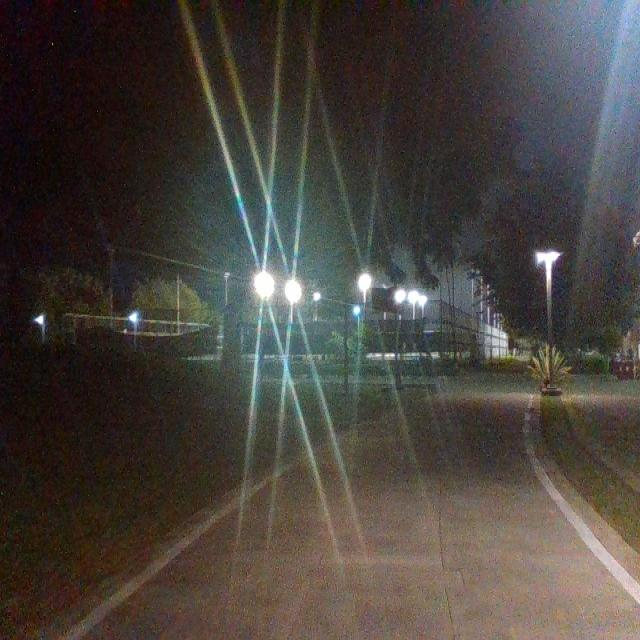lane: (85, 393, 640, 640)
